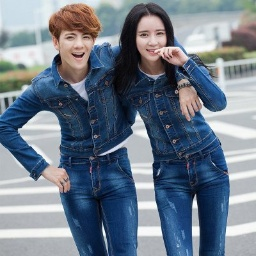face: (123, 3, 180, 68), (50, 4, 101, 69)
